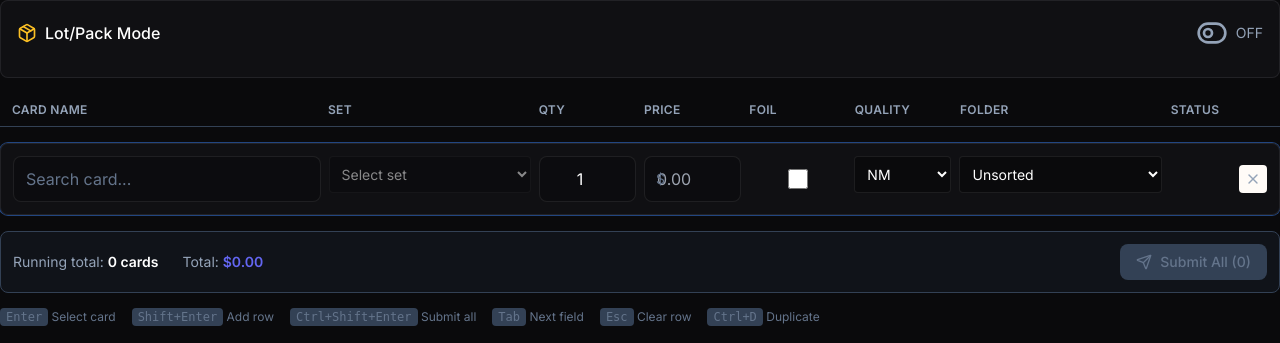
it: RapidEntryTable Component › parses quantity from card name input
This screenshot has width=1280, height=343.
In the field with placeholder "Search card...": (167, 179) x1=13 y1=156 x2=320 y2=202, type "4 Lightning Bolt"
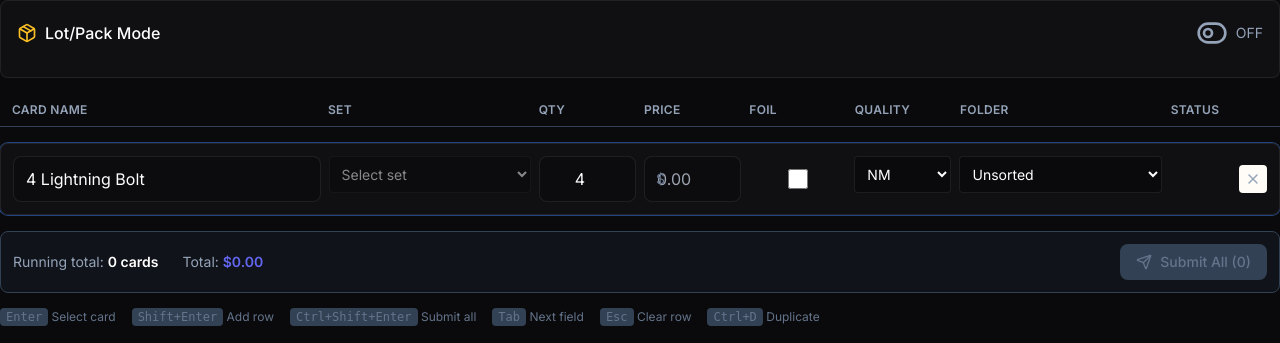
Result: the number field showing "4" is shown at x1=539 y1=156 x2=636 y2=202
